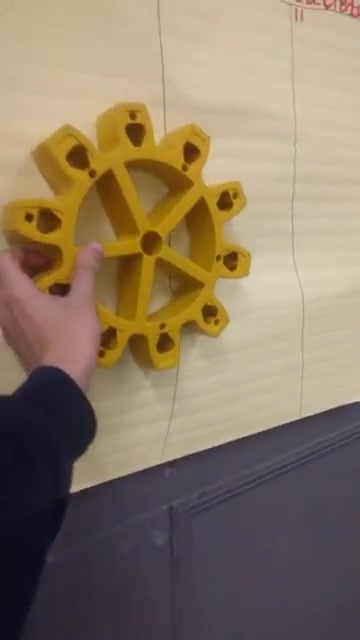gear: (1, 105, 250, 372)
